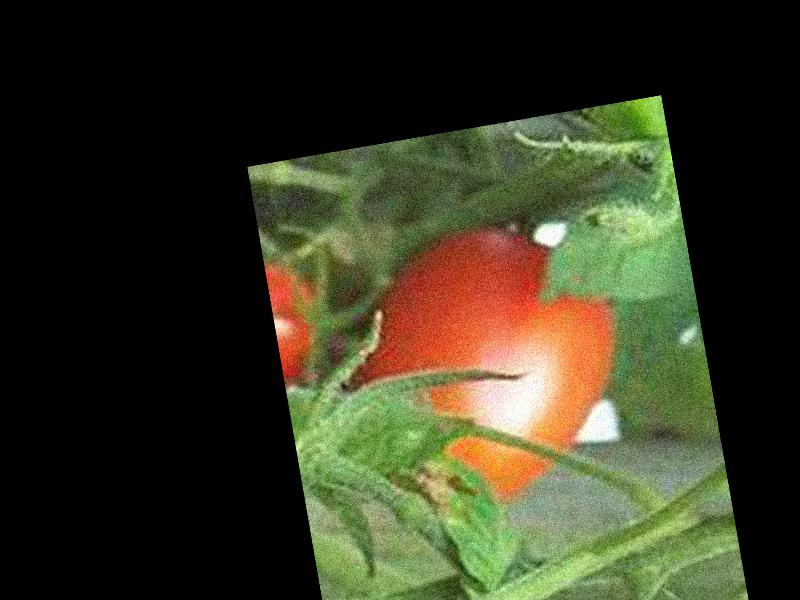Tomato: (342, 209, 641, 515)
